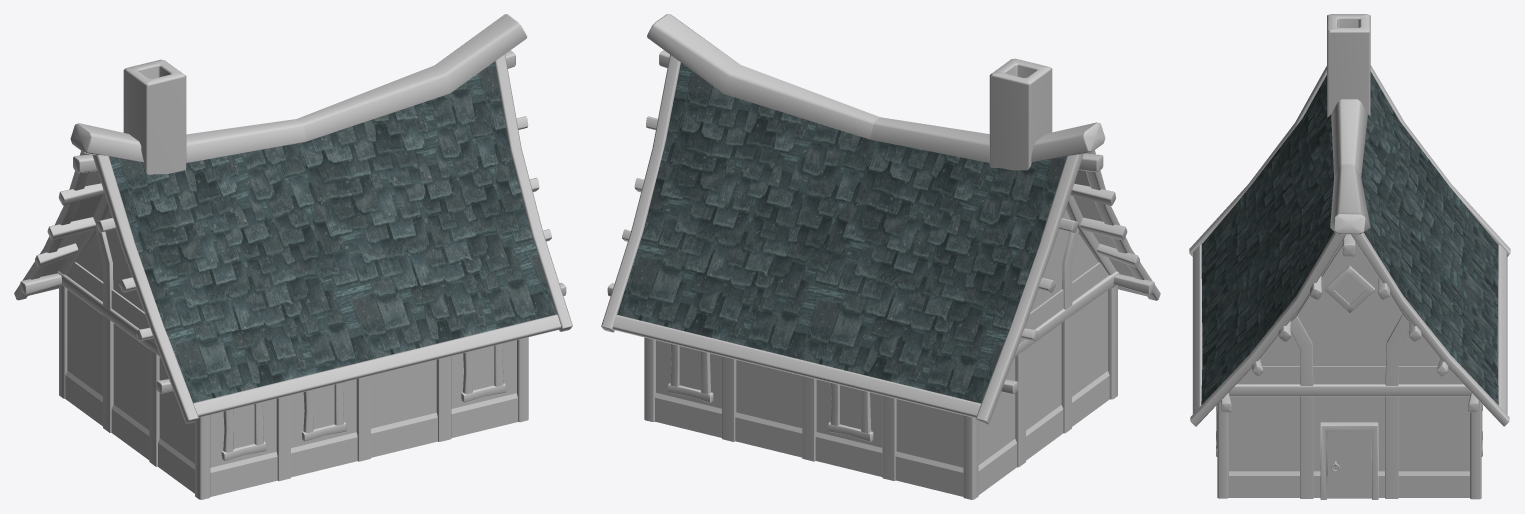
Rendered from house17.fbx.
The picture shows the model from 3 angles, left to right: view 1: azimuth 30°, elevation 25°; view 2: azimuth 150°, elevation 25°; view 3: azimuth 270°, elevation 25°; orthographic projection. The views are drawn at different scales.
Visible parts, largest first — view 1: house17; view 2: house17; view 3: house17.
Boxes of the visible parts, x1,y1,x2,y2 form: house17: [14, 14, 572, 499]; house17: [601, 14, 1160, 499]; house17: [1189, 14, 1510, 499].
Size of the model in its own units: 1318 by 1047 by 896.
